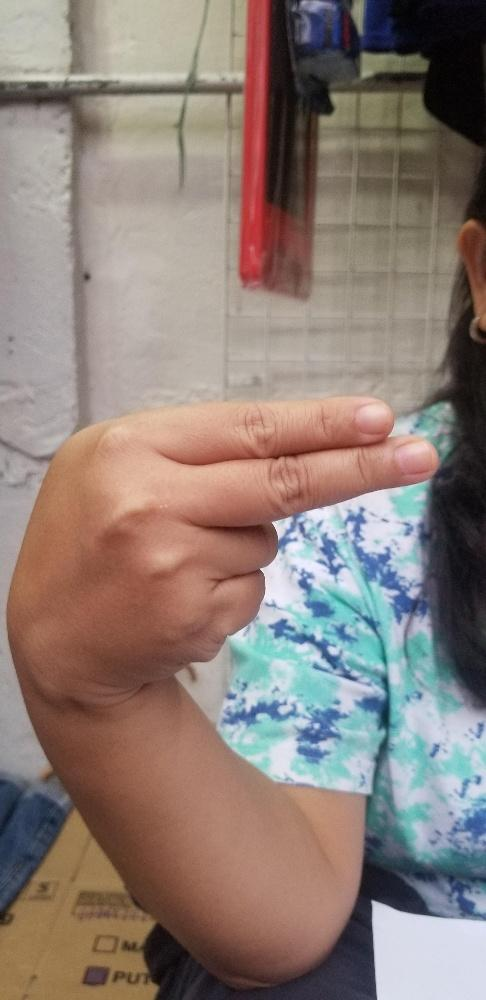h: (5, 396, 440, 689)
